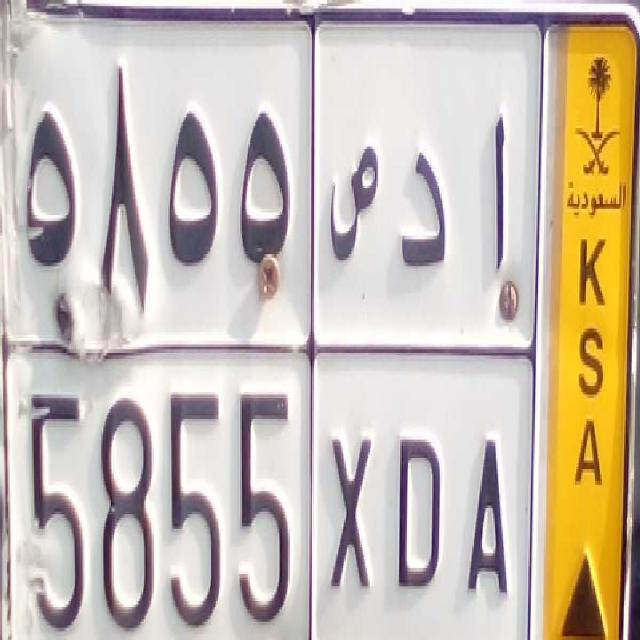license_plate: (0, 346, 530, 640)
